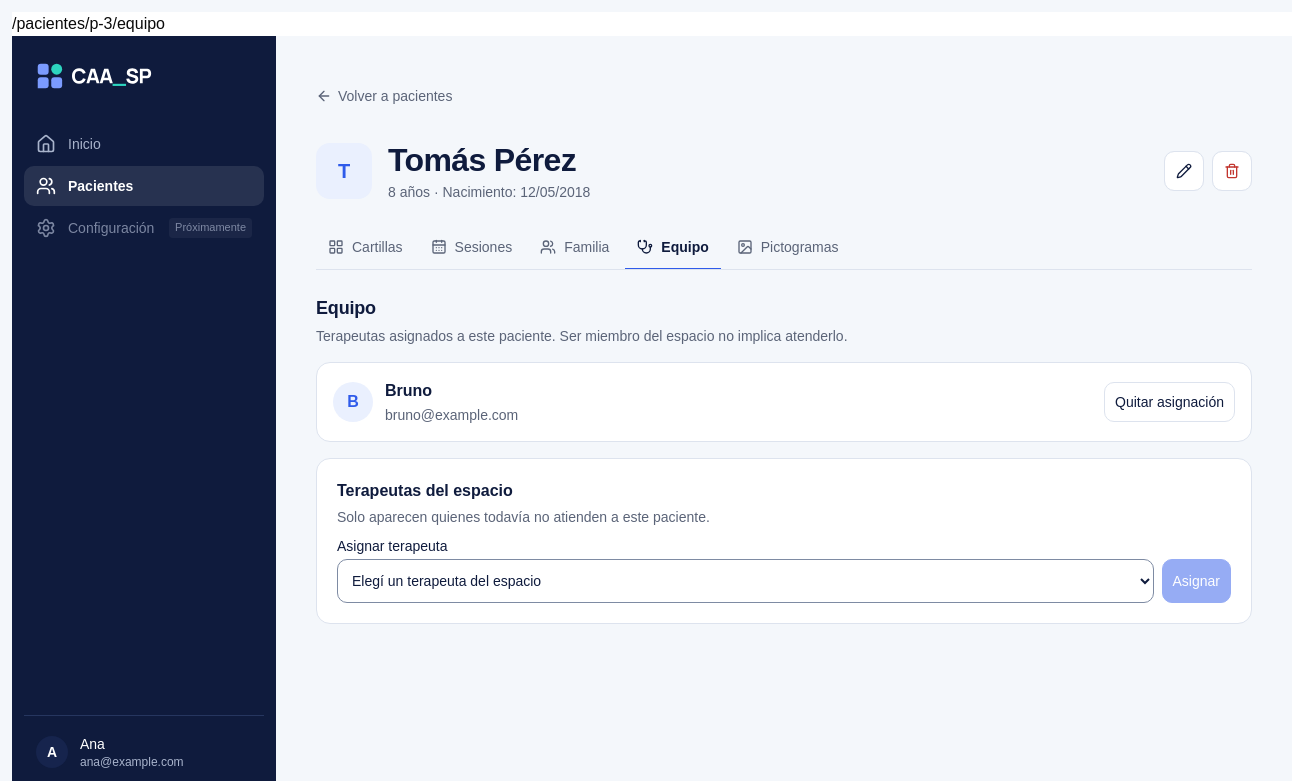
Test: PatientTherapistsPage › shows the backend refusal 409 when assigning
Select "Carla (carla@example.com)" in the dropdown labelled "Asignar terapeuta" at (745, 581), box [337, 559, 1154, 603]
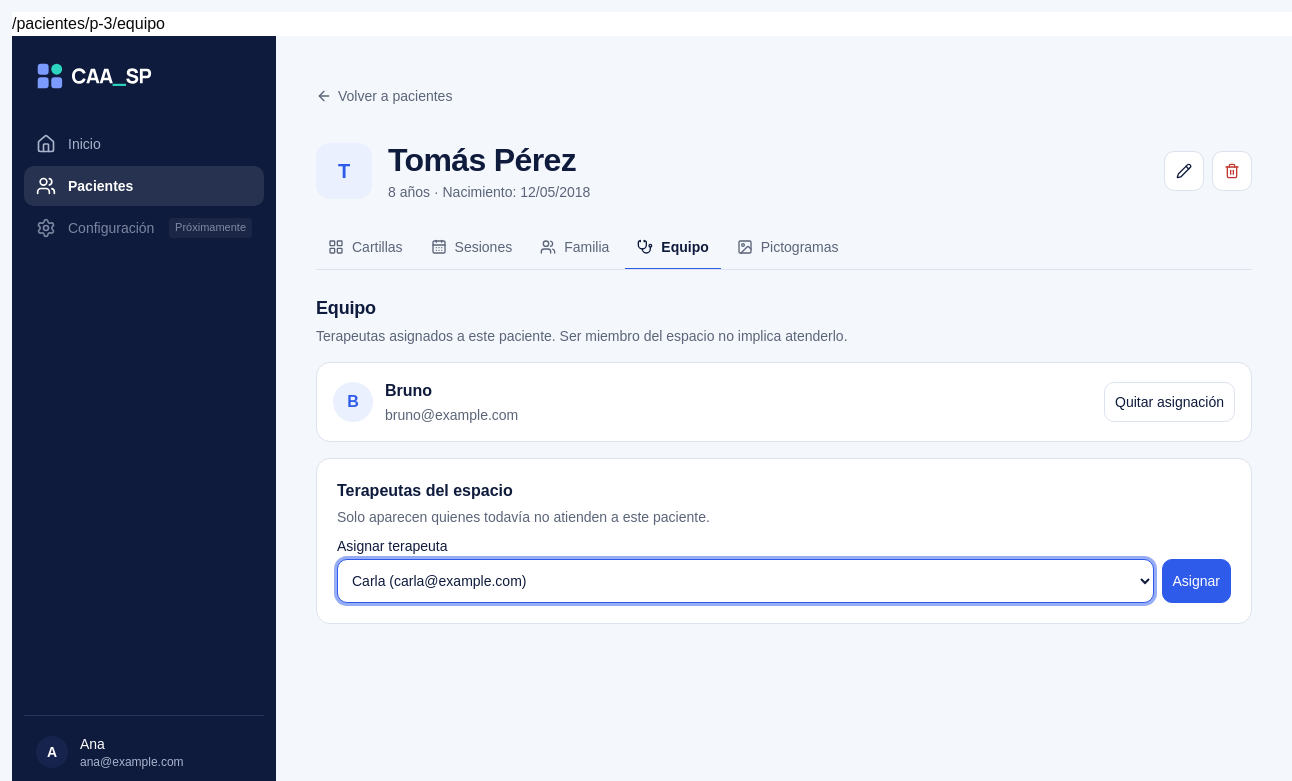
Click the button "Asignar".
click(1196, 581)  # box [1162, 559, 1231, 603]
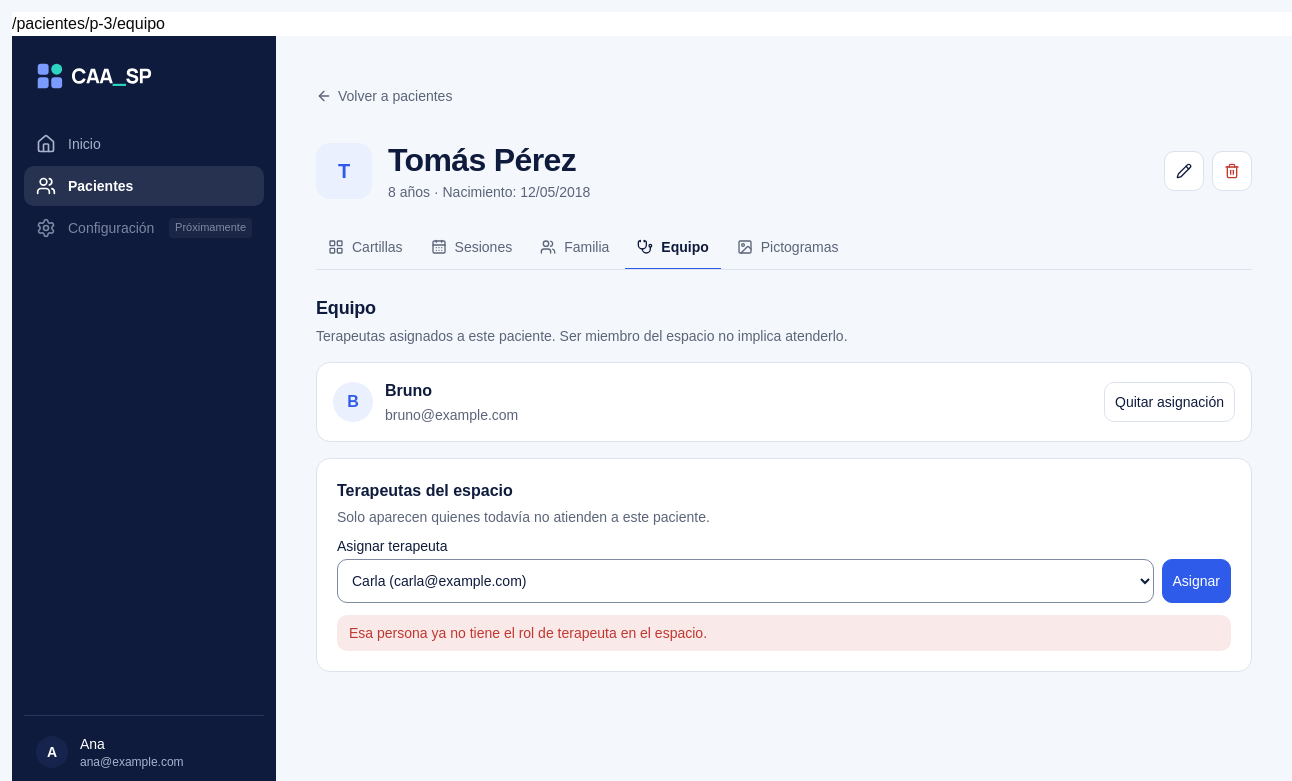
Now the message reads "Esa persona ya no tiene el rol de terapeuta en el espacio.", box [349, 625, 707, 641]
